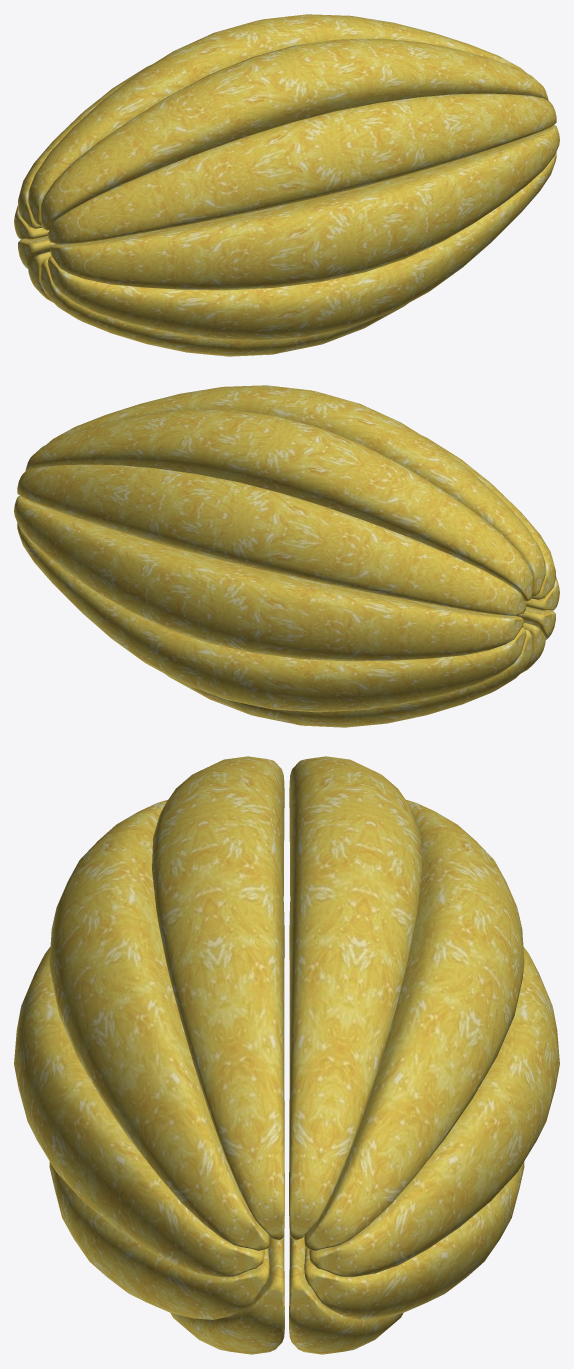
Rendered from LemonFlesh.obj.
3 renders of one model, top to bottom at view 1: azimuth 30°, elevation 25°; view 2: azimuth 150°, elevation 25°; view 3: azimuth 270°, elevation 25°, orthographic. The views are drawn at different scales.
Visible parts, largest first — view 1: LemonFlesh; view 2: LemonFlesh; view 3: LemonFlesh.
Part boxes in pixels (x1,y1,x2,y2): LemonFlesh: [14, 14, 559, 356]; LemonFlesh: [14, 385, 559, 727]; LemonFlesh: [14, 756, 559, 1354].
Size of the model in its own units: 0.0775 by 0.0435 by 0.0451.
1 material, 1 textured.
